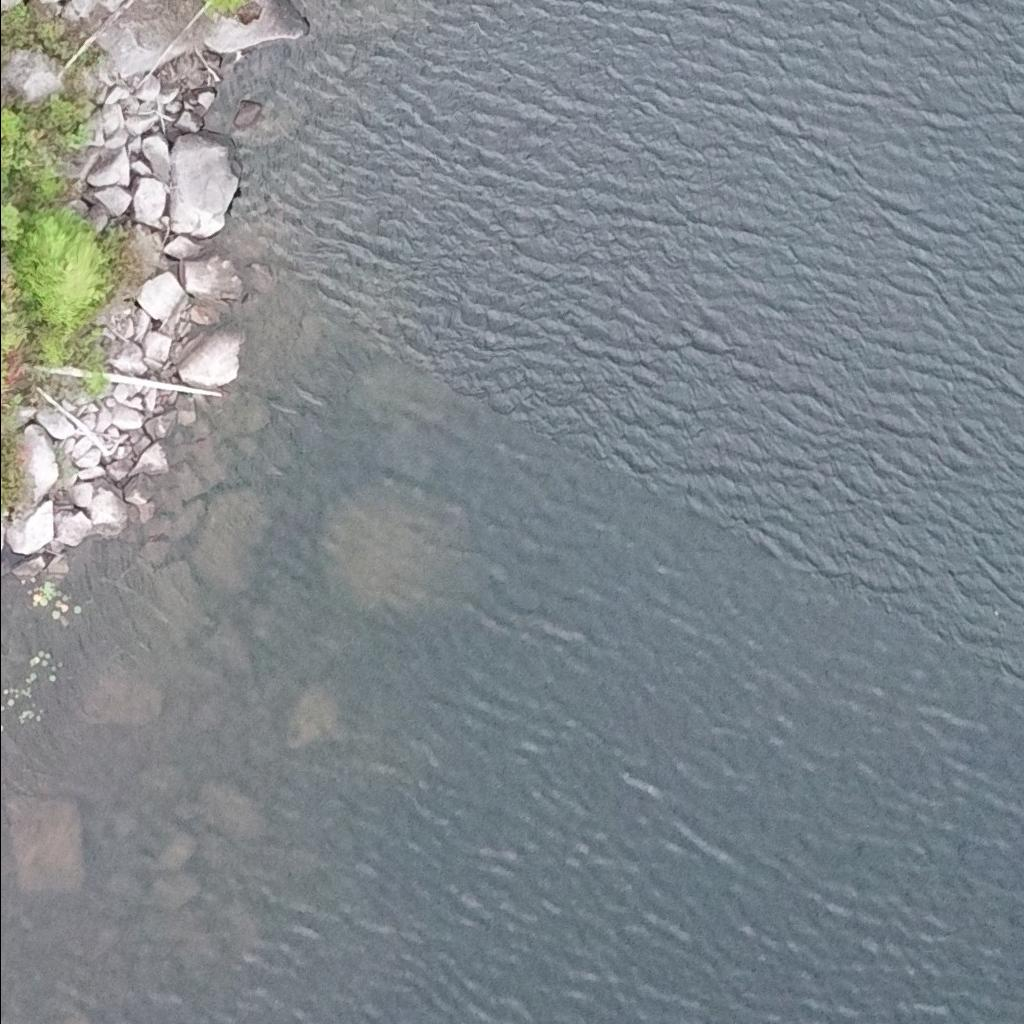crown: (12, 211, 110, 326)
